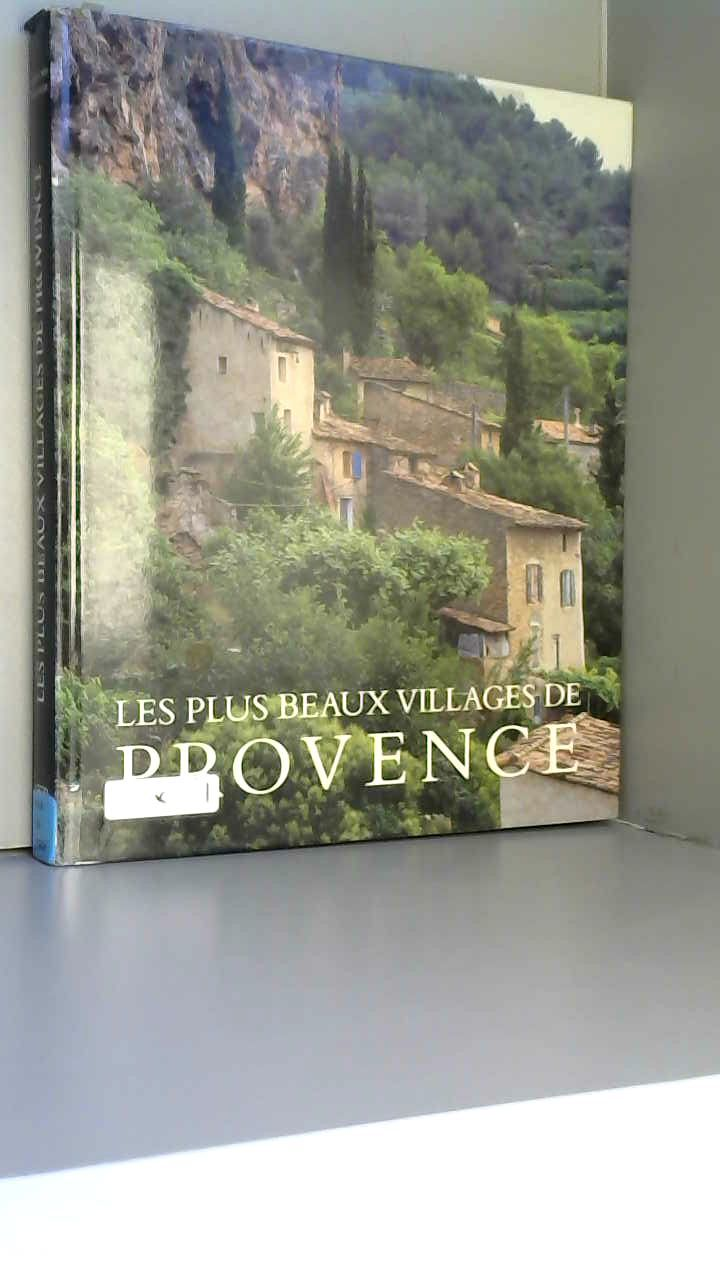book: (10, 0, 667, 912)
